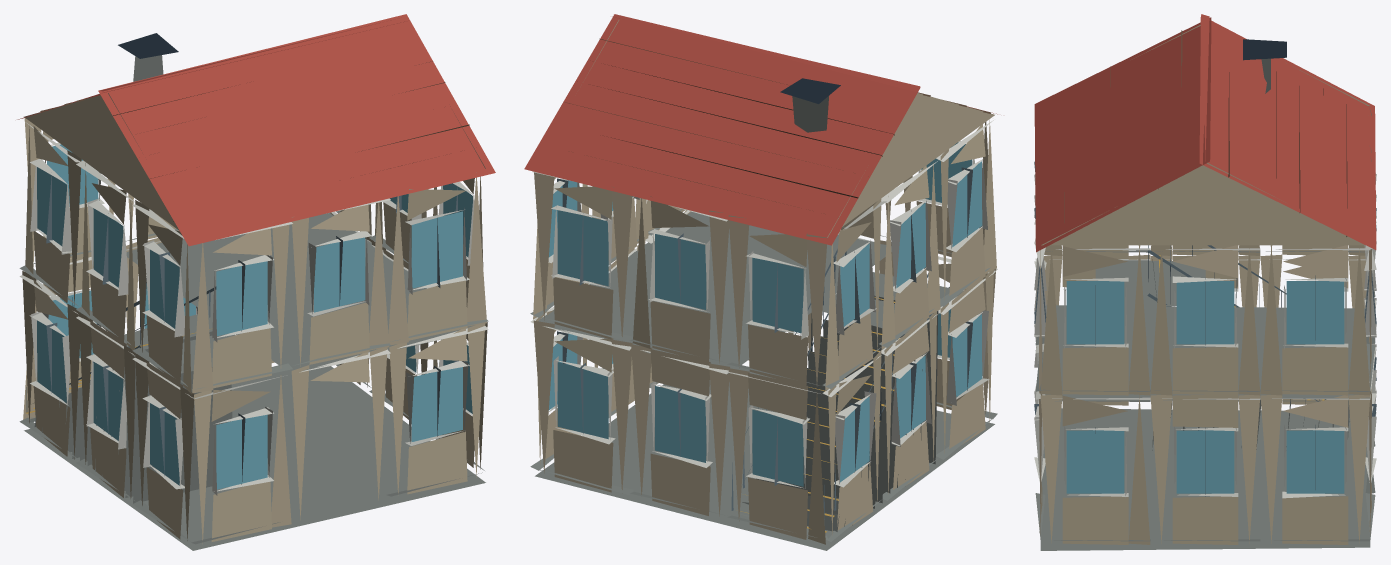
File: architecture-townhouse.lod2.glb
The picture shows the model from 3 angles, left to right: view 1: azimuth 30°, elevation 25°; view 2: azimuth 150°, elevation 25°; view 3: azimuth 270°, elevation 25°; orthographic projection. The views are drawn at different scales.
Visible parts, largest first — view 1: architecture-townhouse__body; view 2: architecture-townhouse__body; view 3: architecture-townhouse__body.
Boxes of the visible parts, x1=… form: architecture-townhouse__body: x1=17, y1=14, x2=495, y2=550; architecture-townhouse__body: x1=524, y1=14, x2=997, y2=550; architecture-townhouse__body: x1=1034, y1=14, x2=1376, y2=550.
Bounding box in the file's own units: 6.31 × 7.96 × 6.23.
